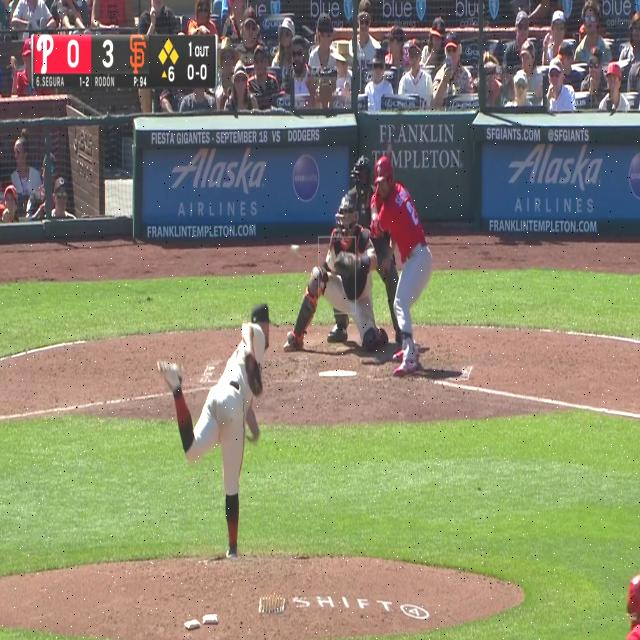baseball: (292, 245, 300, 255)
